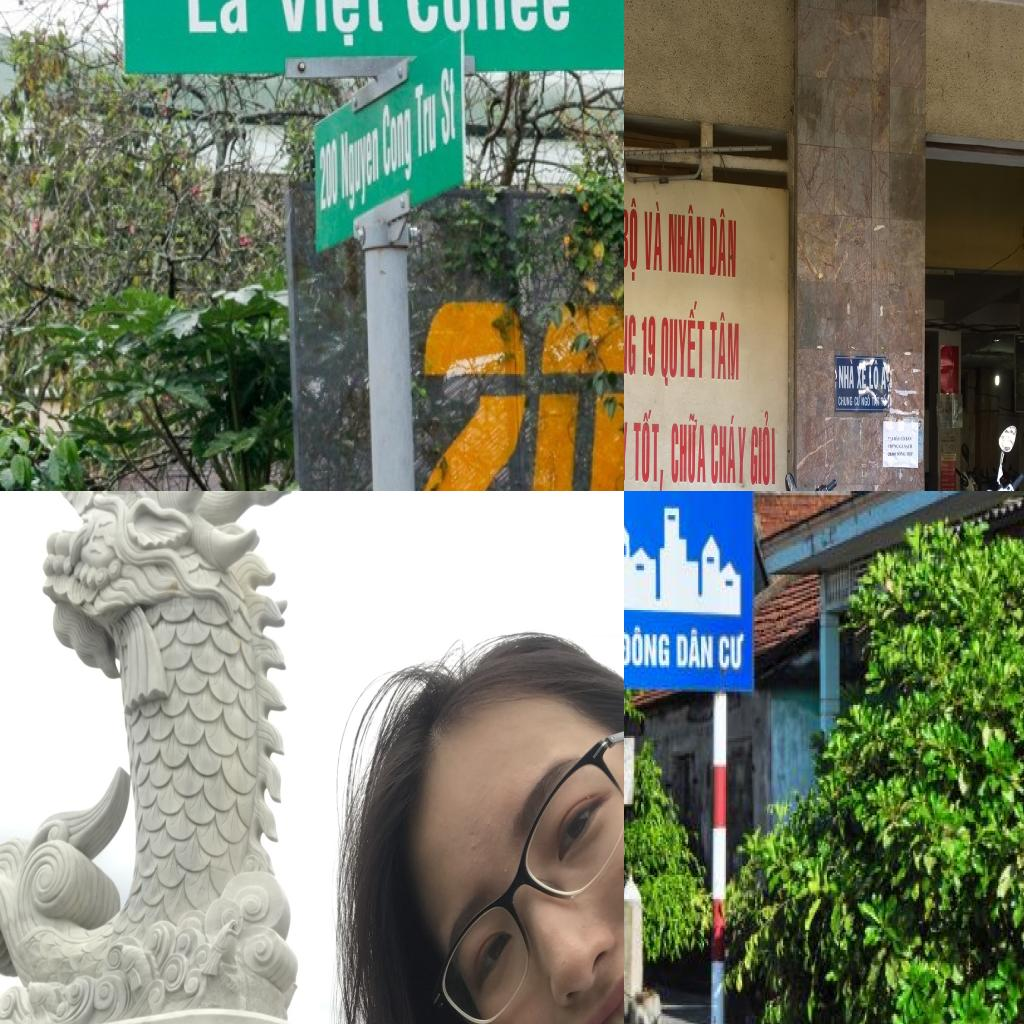text: (404, 0, 574, 37), (271, 0, 386, 51), (660, 296, 707, 389), (339, 120, 382, 220), (380, 93, 416, 194), (667, 202, 705, 280), (711, 410, 748, 490), (631, 406, 665, 491), (669, 410, 707, 485), (184, 0, 252, 39), (708, 310, 742, 385), (708, 206, 738, 286), (412, 78, 440, 160), (624, 625, 673, 671), (316, 134, 340, 214), (438, 59, 458, 154), (642, 197, 664, 281), (674, 628, 716, 670), (624, 194, 640, 286), (640, 309, 658, 380), (717, 632, 747, 674), (624, 295, 638, 384), (838, 358, 855, 390), (869, 358, 879, 392), (856, 363, 867, 390), (838, 395, 854, 407), (881, 365, 887, 391), (861, 394, 871, 407), (871, 394, 880, 408), (881, 393, 887, 408), (854, 394, 860, 407), (888, 444, 899, 450), (906, 450, 914, 458), (904, 443, 913, 450), (897, 451, 906, 457), (887, 435, 894, 442), (888, 452, 896, 458), (894, 435, 900, 442), (900, 435, 906, 442), (906, 436, 912, 442), (899, 443, 904, 450), (905, 451, 907, 457)
